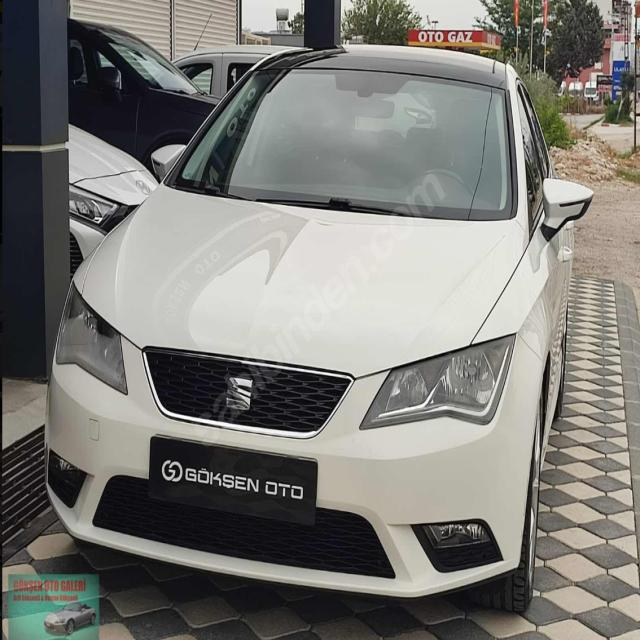seat: (223, 372, 255, 414)
